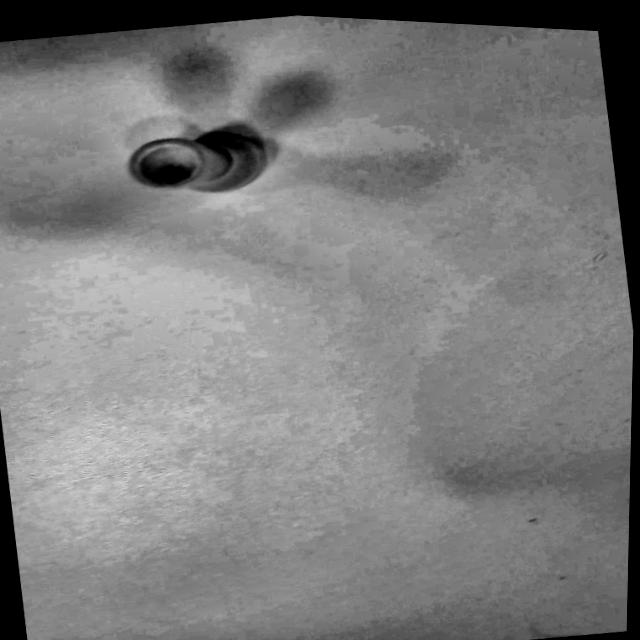white-rook: (88, 82, 309, 229)
